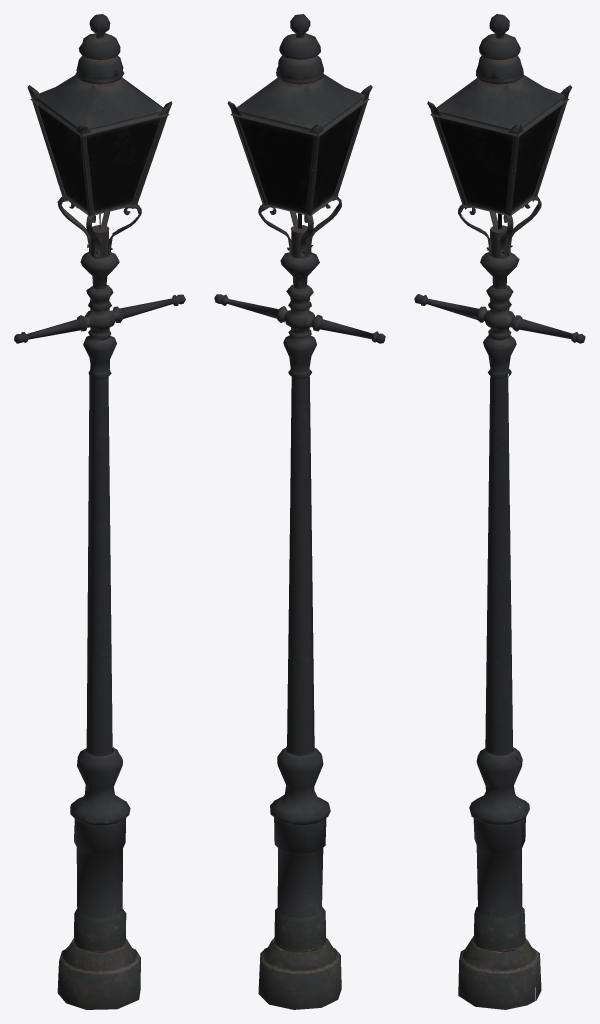
The model's file is street_lamp.glb.
The picture shows the model from 3 angles, left to right: view 1: azimuth 30°, elevation 25°; view 2: azimuth 150°, elevation 25°; view 3: azimuth 330°, elevation 25°; orthographic projection.
Parts seen in each view (by area): view 1: street_lamp_01; view 2: street_lamp_01; view 3: street_lamp_01.
Part boxes in pixels (left/top/right/bottom): street_lamp_01: left=14, top=14, right=185, bottom=1009; street_lamp_01: left=214, top=14, right=385, bottom=1009; street_lamp_01: left=414, top=14, right=585, bottom=1009.
Bounding box in the file's own units: 0.7027 × 3.87 × 0.3842.
3 materials, 3 textured.
